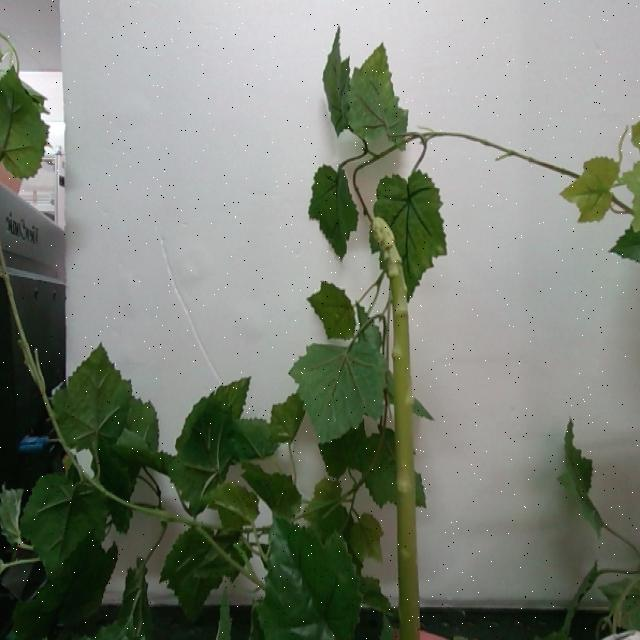aspargus: (371, 208, 425, 640)
